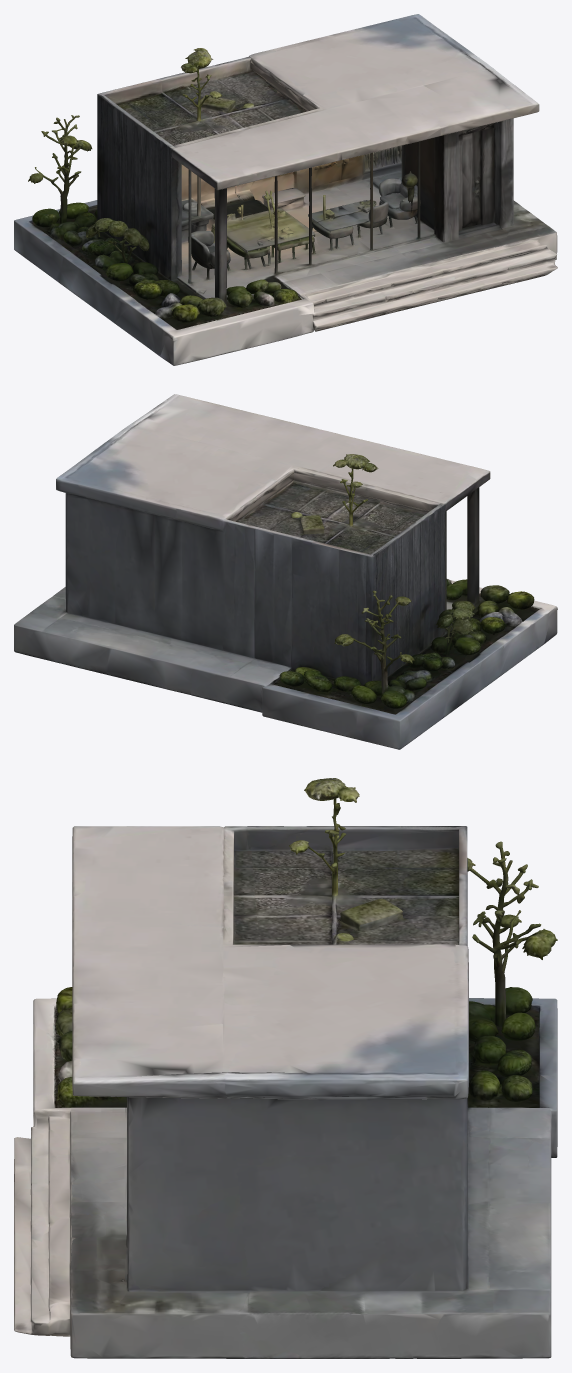
Rendered from home.glb.
3 renders of one model, top to bottom at view 1: azimuth 30°, elevation 25°; view 2: azimuth 150°, elevation 25°; view 3: azimuth 270°, elevation 25°, orthographic. The views are drawn at different scales.
Visible parts, largest first — view 1: tripo_node_c06b8268-ff60-46f6-a72b-e04c506ed663; view 2: tripo_node_c06b8268-ff60-46f6-a72b-e04c506ed663; view 3: tripo_node_c06b8268-ff60-46f6-a72b-e04c506ed663.
Part boxes in pixels (x1,y1,x2,y2): tripo_node_c06b8268-ff60-46f6-a72b-e04c506ed663: (14,14,557,365); tripo_node_c06b8268-ff60-46f6-a72b-e04c506ed663: (14,394,557,749); tripo_node_c06b8268-ff60-46f6-a72b-e04c506ed663: (14,778,557,1358).
Size of the model in its own units: 0.9672 by 0.5135 by 0.7026.
Materials: 1 (1 with a texture image).
